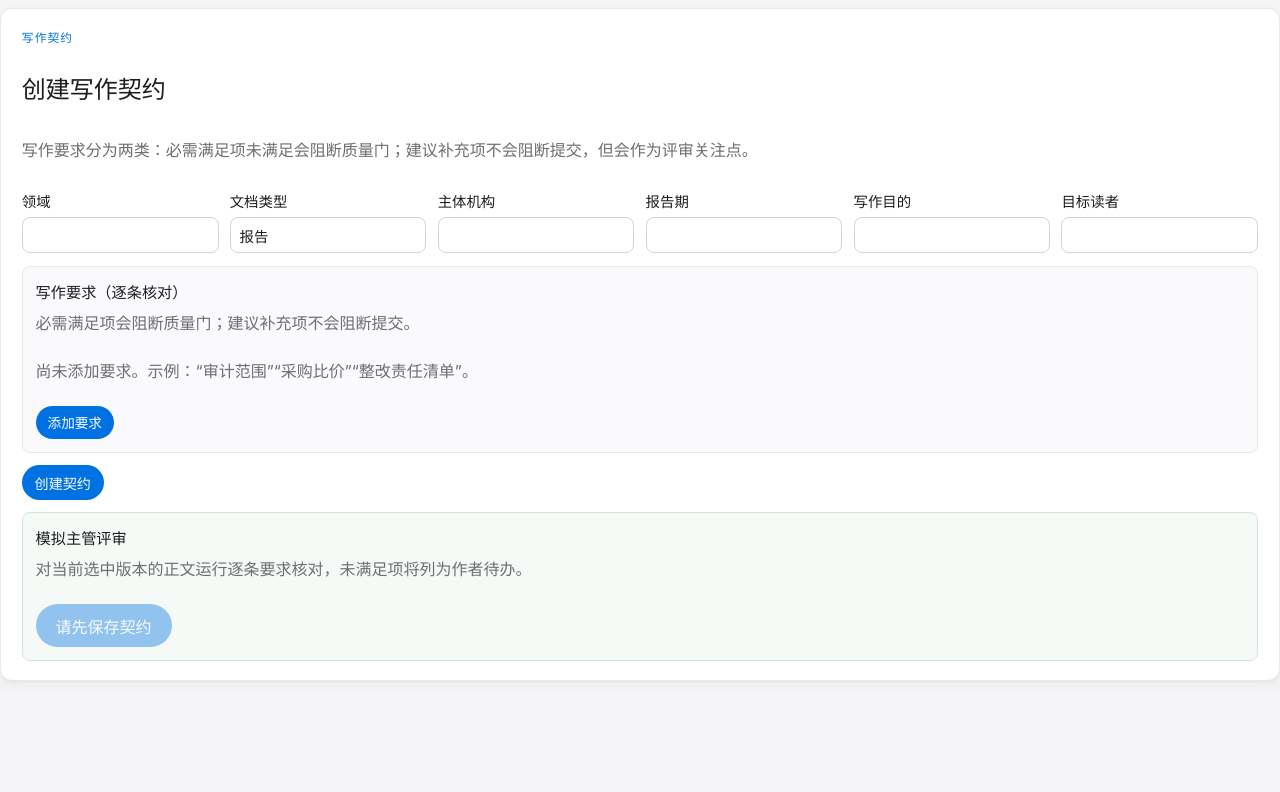
WritingContractForm › saves the contract and runs supervisor simulation against the selected version
Click the button "添加要求".
click(75, 422)  # box [36,406,114,439]
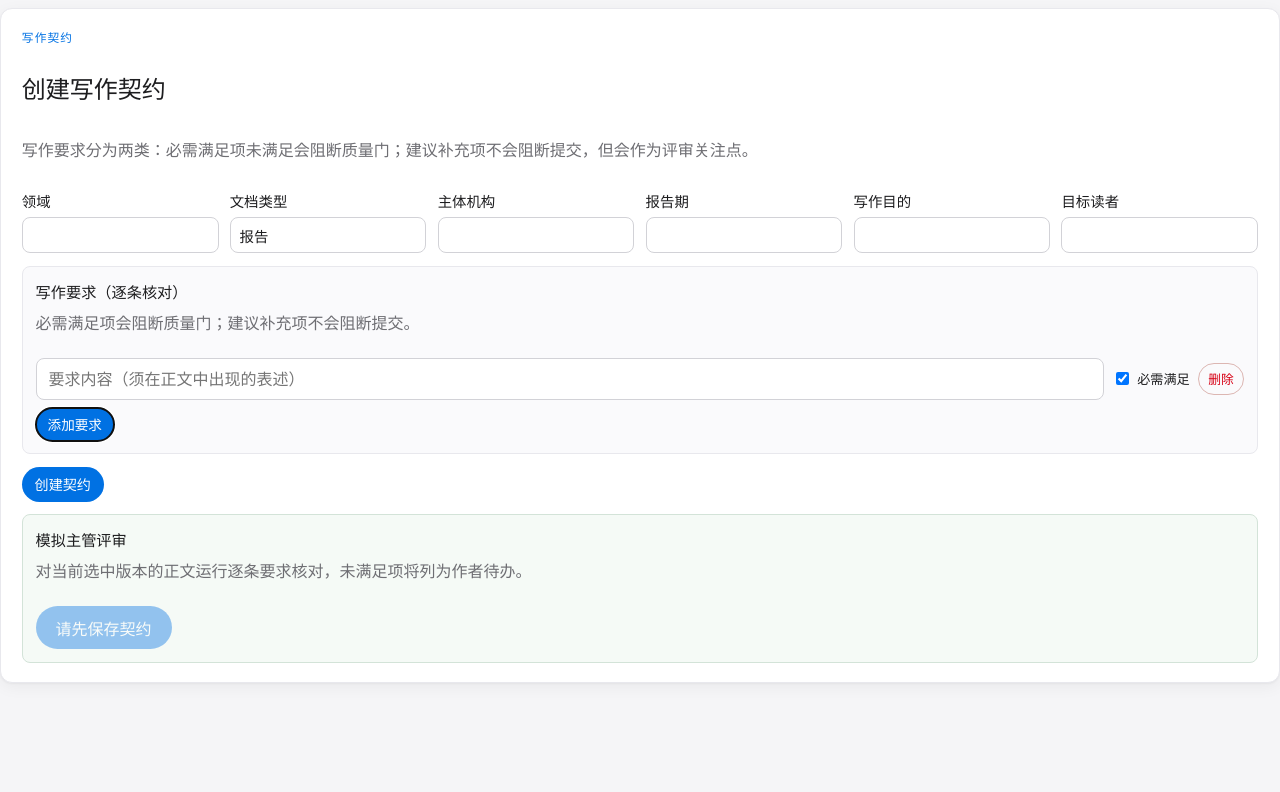
Type "审计范围" into the field named "要求 1 内容".
click(570, 379); type("审计范围")  # box [36,358,1104,400]
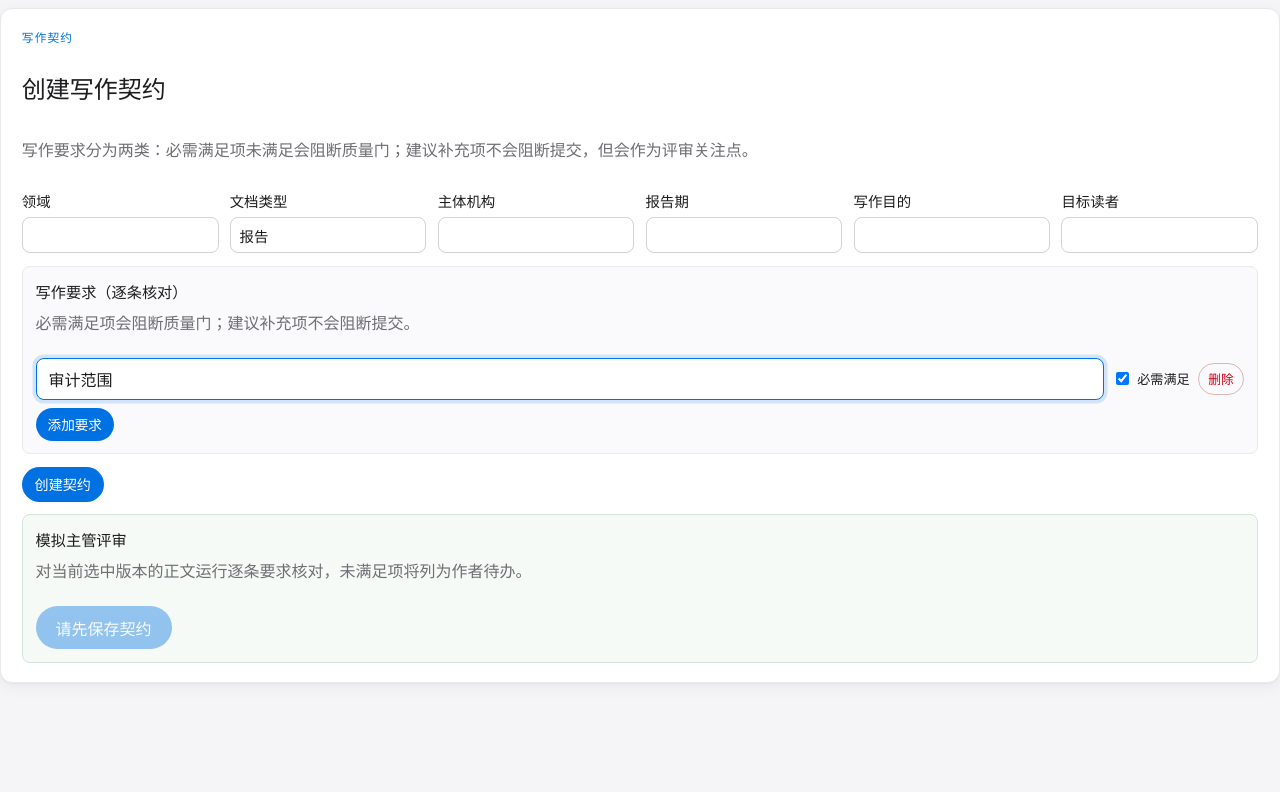
Click the button "创建契约".
click(63, 484)  # box [22,467,104,502]
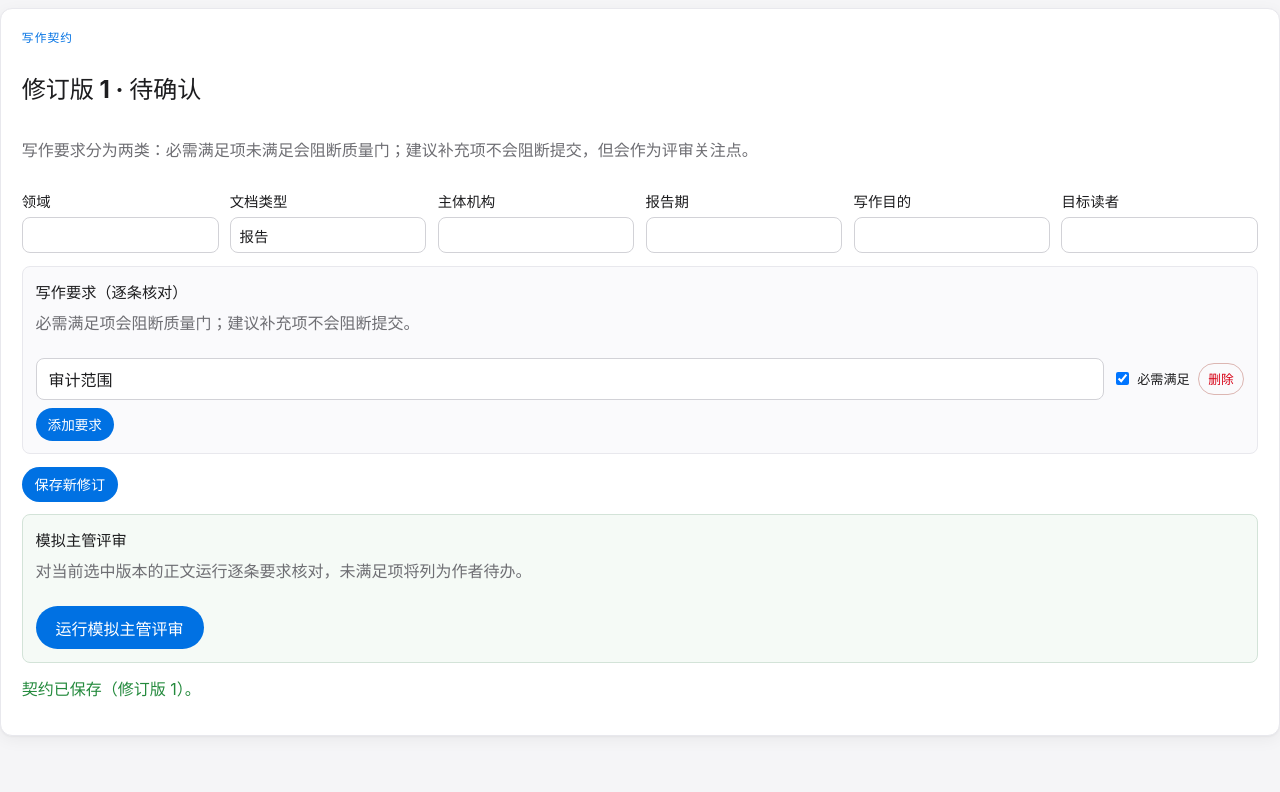
expect the text "契约已保存（修订版 1）。" is shown: met, box [22,679,201,699]
Click the button "运行模拟主管评审".
click(120, 628)  # box [36,606,204,649]
(page scrolled)
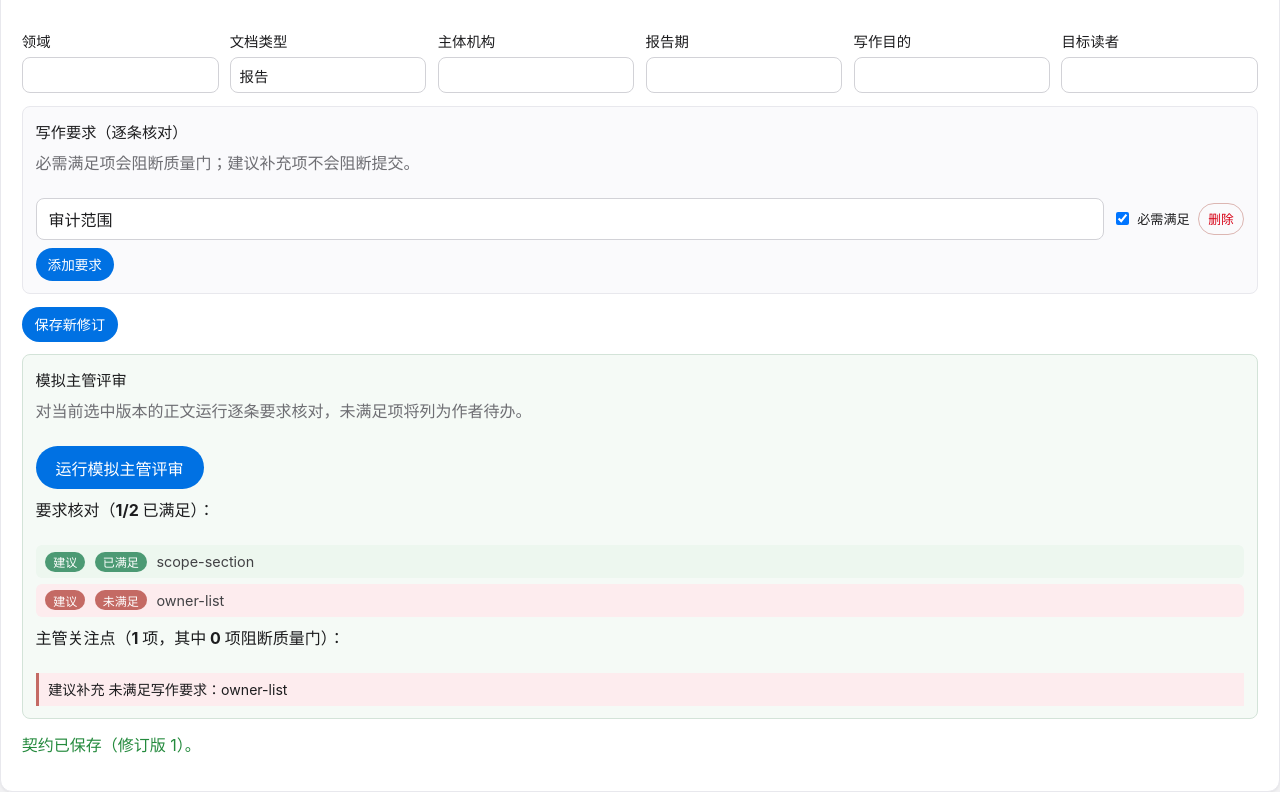
expect the text "已满足" is shown: met, box [95,552,147,572]
expect the text "未满足" is shown: met, box [95,590,147,610]
expect the list item "未满足写作要求：owner-list" is shown: met, box [108,681,287,698]
